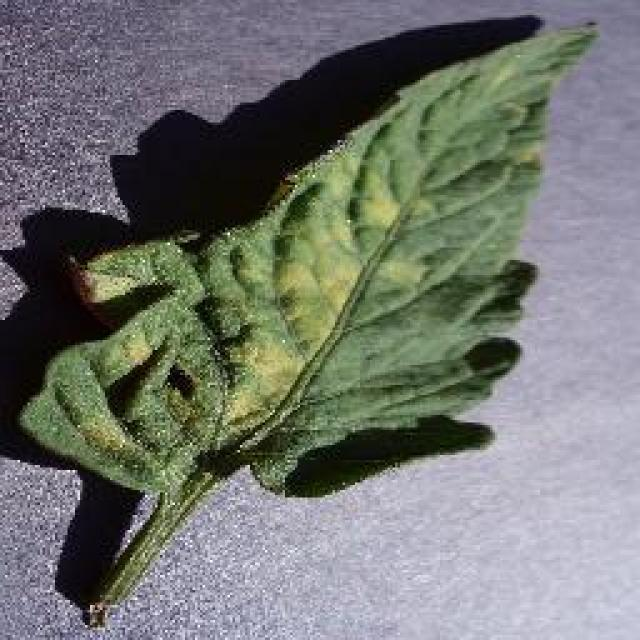Tomato mold leaf: (8, 21, 592, 499)
